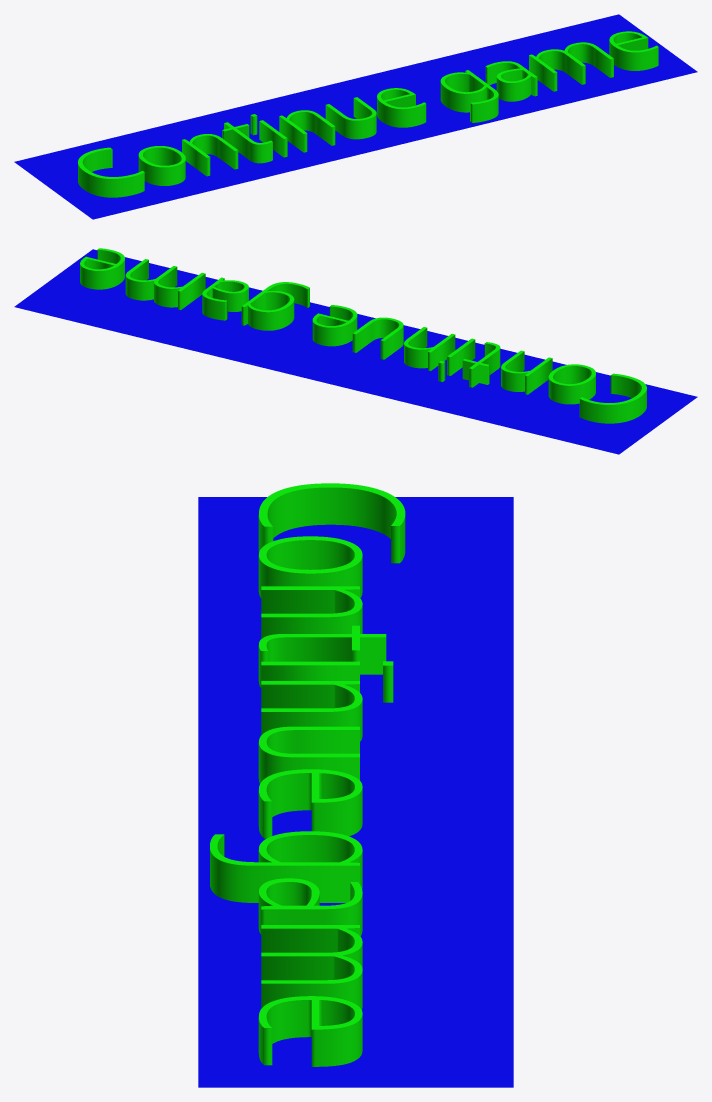
Rendered from continue-game.glb.
The picture shows the model from 3 angles, top to bottom: view 1: azimuth 30°, elevation 25°; view 2: azimuth 150°, elevation 25°; view 3: azimuth 270°, elevation 25°; orthographic projection. The views are drawn at different scales.
Parts seen in each view (by area): view 1: Plane, Text; view 2: Plane, Text; view 3: Plane, Text.
Part boxes in pixels (x1,y1,x2,y2): Plane: [14, 14, 697, 219]; Text: [78, 31, 658, 197]; Plane: [14, 249, 697, 454]; Text: [80, 248, 646, 423]; Plane: [198, 497, 513, 1087]; Text: [210, 483, 405, 1066].
Size of the model in its own units: 3.4 by 0.1 by 0.768.
